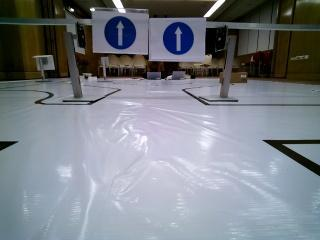straight: (146, 17, 205, 60), (94, 9, 147, 51)
